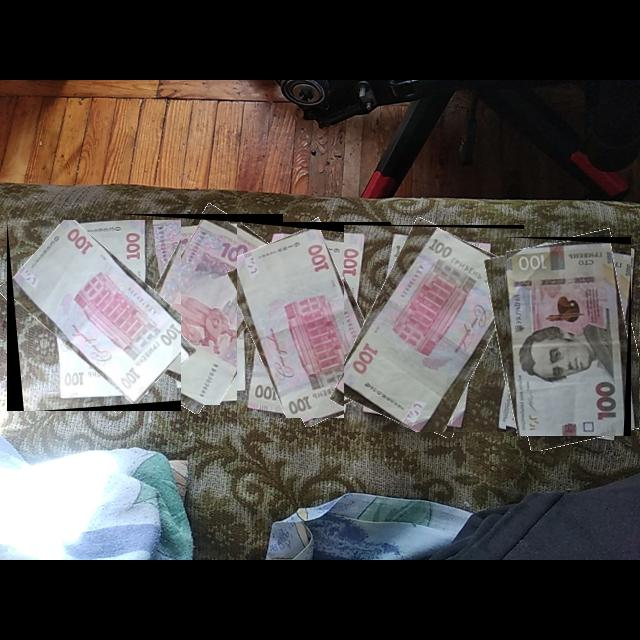100uah: (344, 227, 524, 433), (11, 220, 182, 406), (125, 219, 284, 406), (237, 229, 385, 419), (506, 241, 626, 437)
